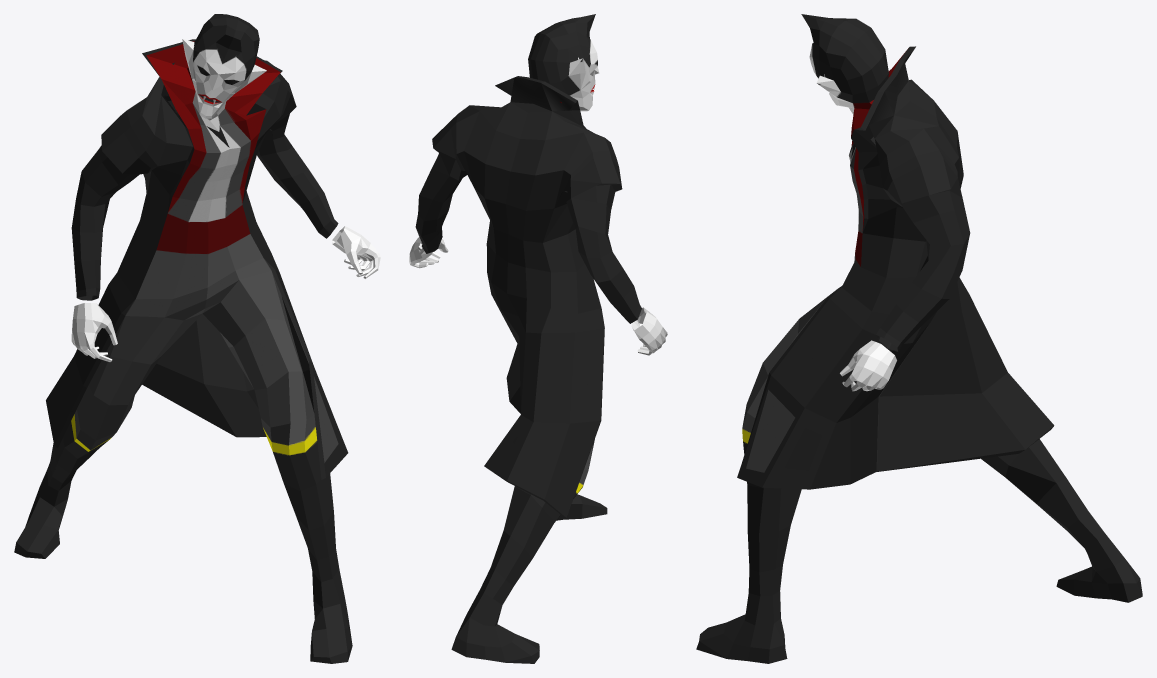
Rendered from VampireIdle(51).obj.
The picture shows the model from 3 angles, left to right: view 1: azimuth 30°, elevation 25°; view 2: azimuth 150°, elevation 25°; view 3: azimuth 270°, elevation 25°; orthographic projection. The views are drawn at different scales.
Parts seen in each view (by area): view 1: Plane002; view 2: Plane002; view 3: Plane002.
Part boxes in pixels (x1=…): Plane002: x1=14, y1=14, x2=380, y2=663; Plane002: x1=409, y1=14, x2=667, y2=663; Plane002: x1=696, y1=14, x2=1142, y2=663.
Bounding box in the file's own units: 152 × 301 × 201.
